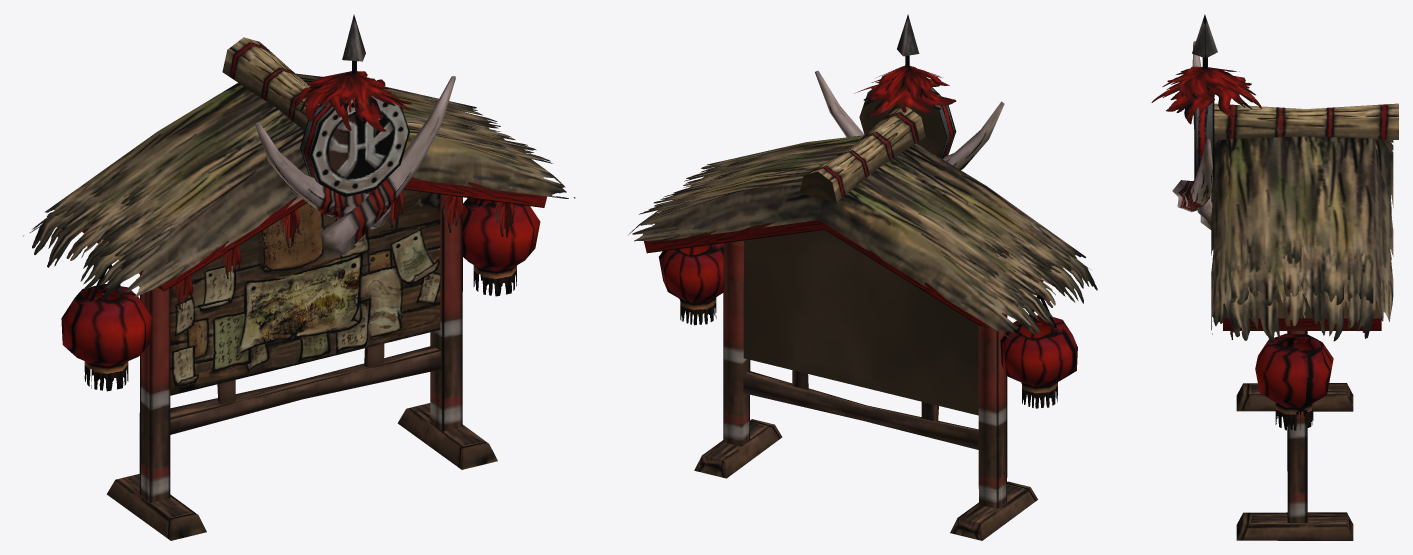
Rendered from PRP_MissionBoard.FBX.
3 views of the same model, side by side, from view 1: azimuth 30°, elevation 25°; view 2: azimuth 150°, elevation 25°; view 3: azimuth 270°, elevation 25° (orthographic). The views are drawn at different scales.
Parts seen in each view (by area): view 1: PRP_MissionBoard; view 2: PRP_MissionBoard; view 3: PRP_MissionBoard.
Part boxes in pixels (x1,y1,x2,y2): PRP_MissionBoard: (23, 14, 575, 540); PRP_MissionBoard: (628, 14, 1097, 540); PRP_MissionBoard: (1151, 14, 1398, 540).
Size of the model in its own units: 444 by 451 by 232.
